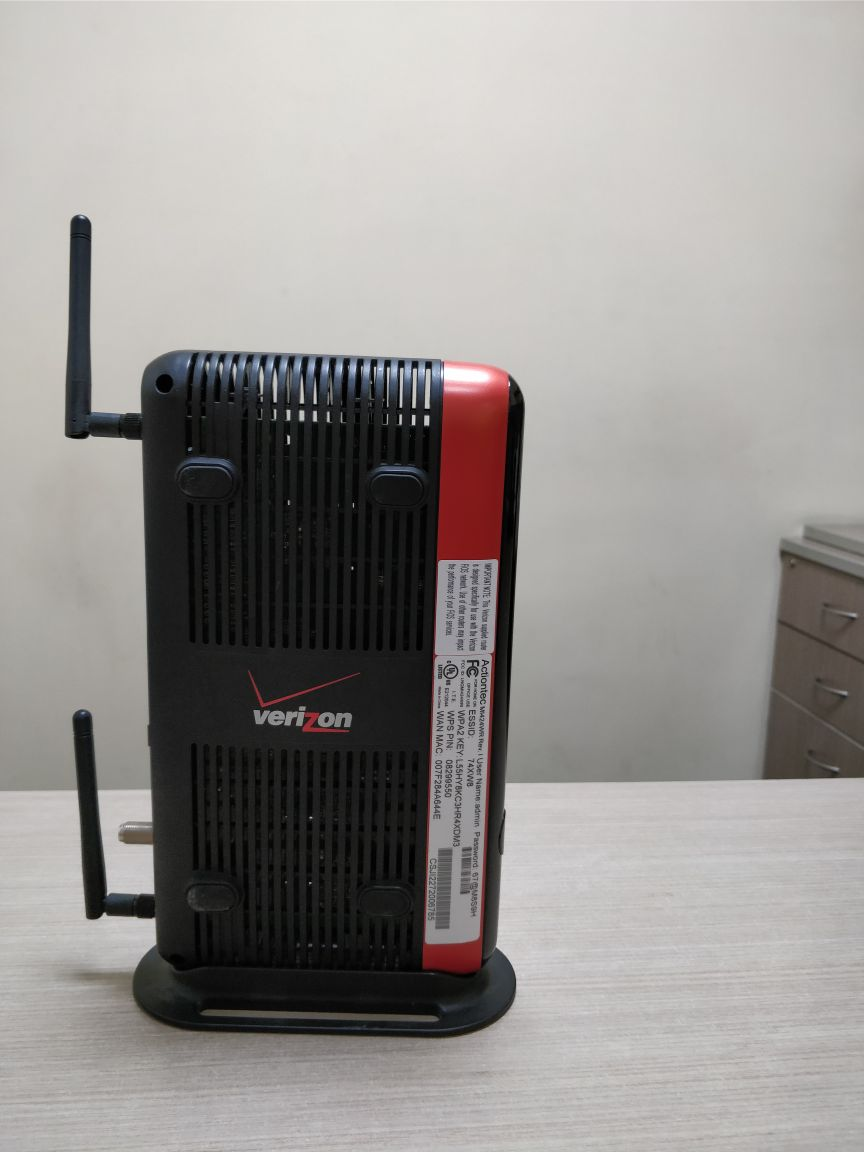Verizon Router: (28, 189, 630, 1104)
